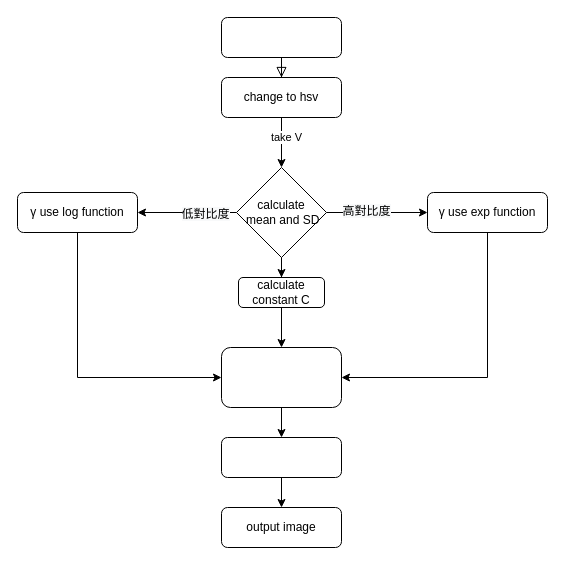
The diagram is 565 pixels wide and 565 high, and some of its shapes have lost their labels. Here are the shapes that lost their labels. From the top down, the box of each, then its label:
(220, 16, 342, 58): input image
(220, 346, 342, 408): process input image with γ and c
(220, 436, 342, 478): change to rgb
